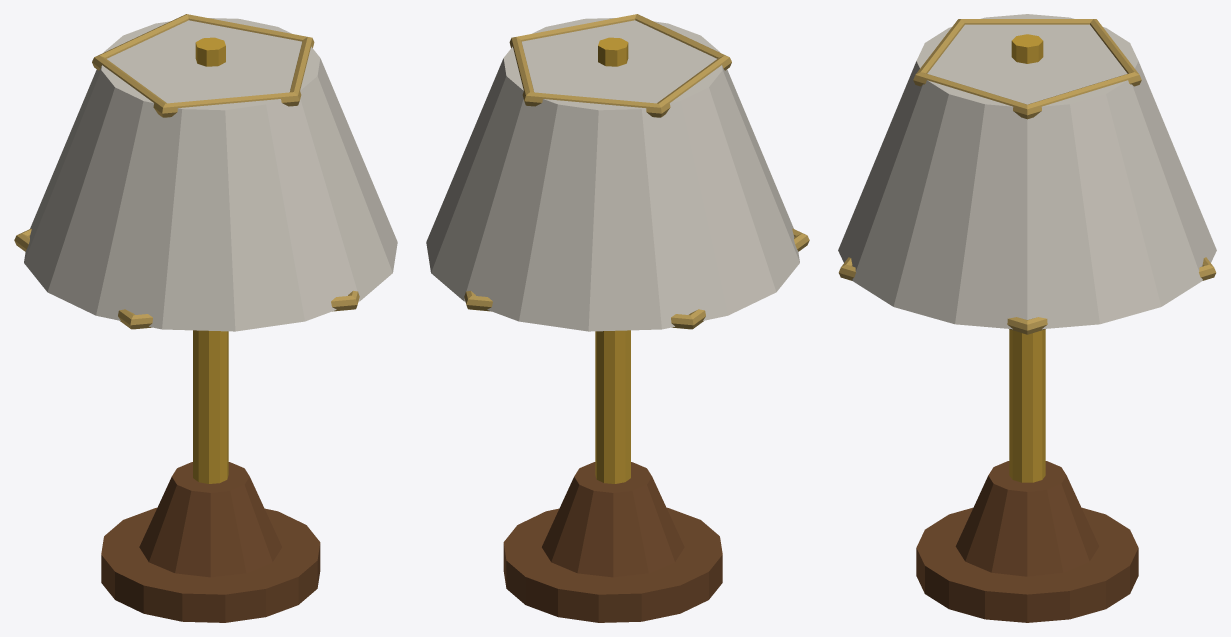
Rendered from lamp_table.glb.
3 renders of one model, left to right at view 1: azimuth 30°, elevation 25°; view 2: azimuth 150°, elevation 25°; view 3: azimuth 270°, elevation 25°, orthographic.
Visible parts, largest first — view 1: lamp_table; view 2: lamp_table; view 3: lamp_table.
Boxes of the visible parts, x1,y1,x2,y2 form: lamp_table: (14, 14, 397, 622); lamp_table: (426, 14, 809, 622); lamp_table: (838, 14, 1216, 622).
Bounding box in the file's own units: 0.297 × 0.452 × 0.29.
